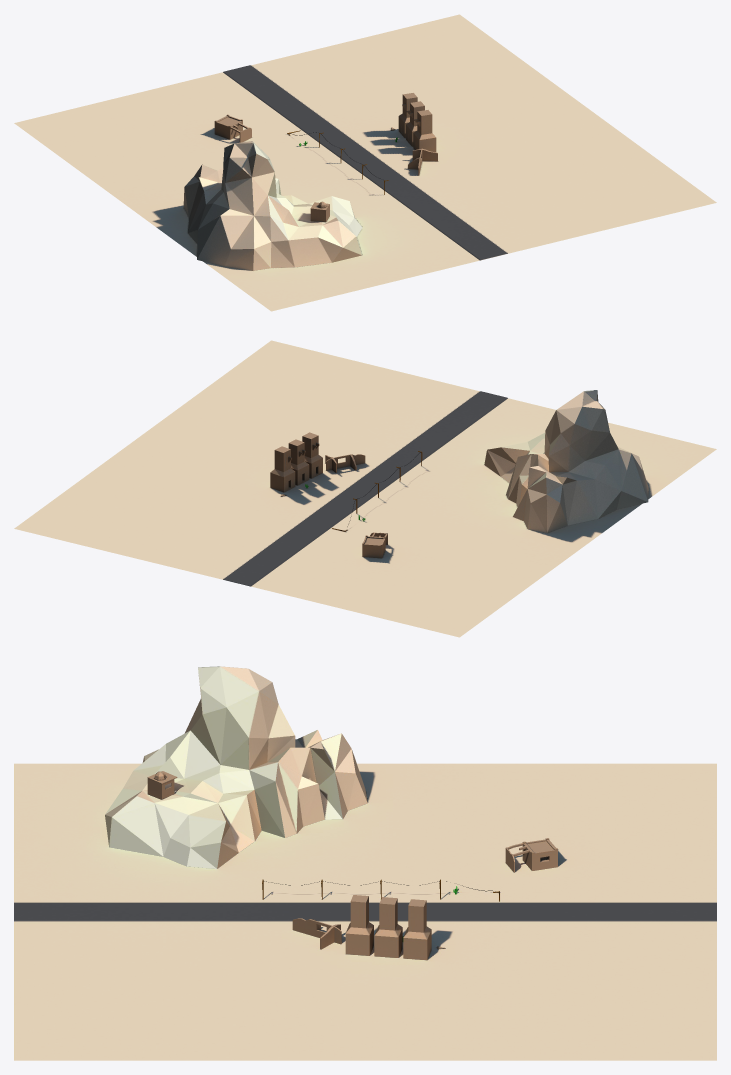
File: GHL_Module4.fbx
The picture shows the model from 3 angles, top to bottom: view 1: azimuth 30°, elevation 25°; view 2: azimuth 150°, elevation 25°; view 3: azimuth 270°, elevation 25°; orthographic projection. The views are drawn at different scales.
Parts seen in each view (by area): view 1: Base_plane.001; view 2: Base_plane.001; view 3: Base_plane.001.
Part boxes in pixels (x1=…): Base_plane.001: x1=14, y1=14, x2=716, y2=311; Base_plane.001: x1=14, y1=340, x2=716, y2=637; Base_plane.001: x1=14, y1=666, x2=716, y2=1060.
Size of the model in its own units: 1208 by 256 by 1200.
Materials: 1 (1 with a texture image).
